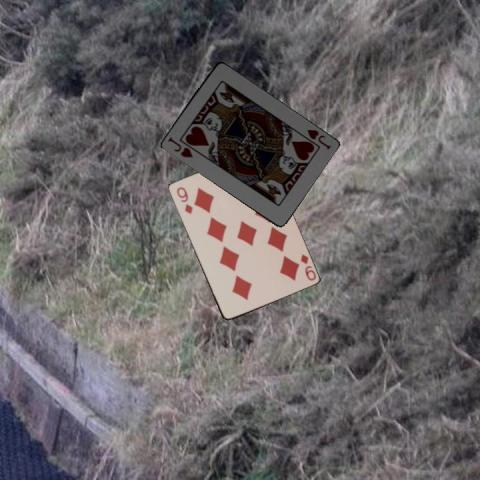9d: (173, 184, 194, 216), (298, 251, 318, 282)
Jh: (165, 134, 194, 159), (303, 126, 332, 151)
